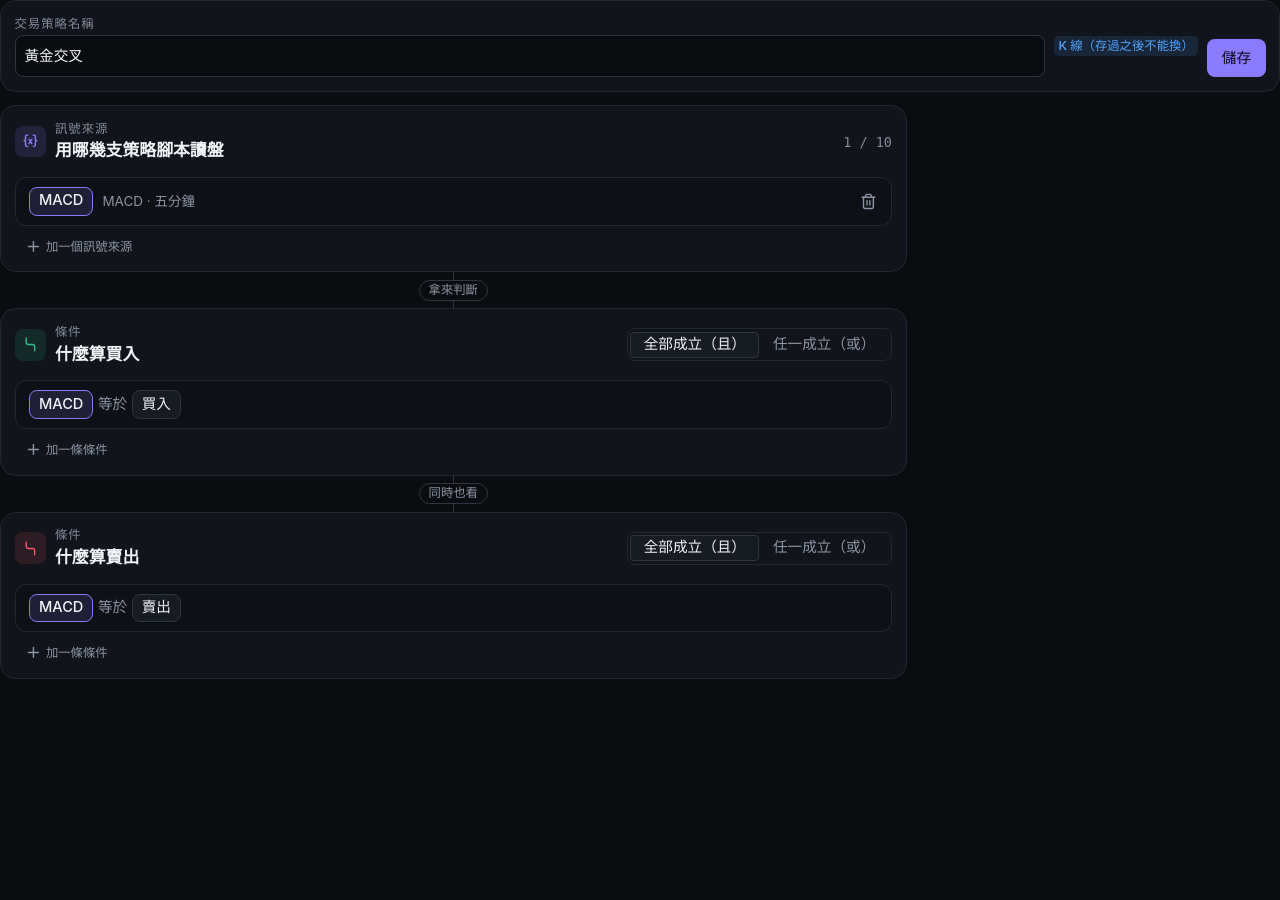
Test: TradingStrategyWorkbench：在步驟卡上加一條買入條件 › 每個來源都用上了就不再給加，並說出為什麼
Click the button with test id "clause-add-buy": x=66, y=450 x1=14 y1=438 x2=118 y2=461
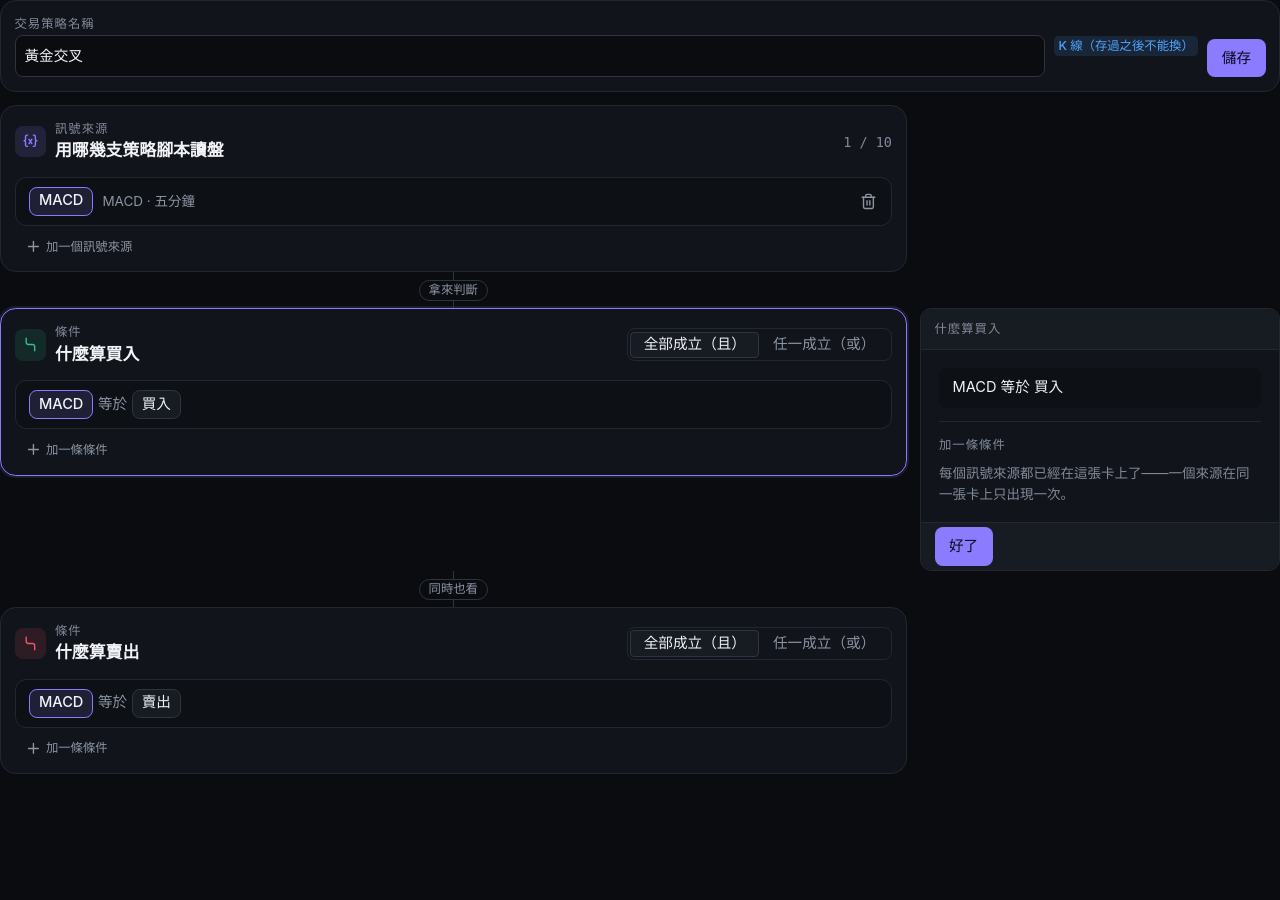
Now the element with test id "clause-adder-buy" shows "只出現一次", box x1=939 y1=465 x2=1250 y2=502
